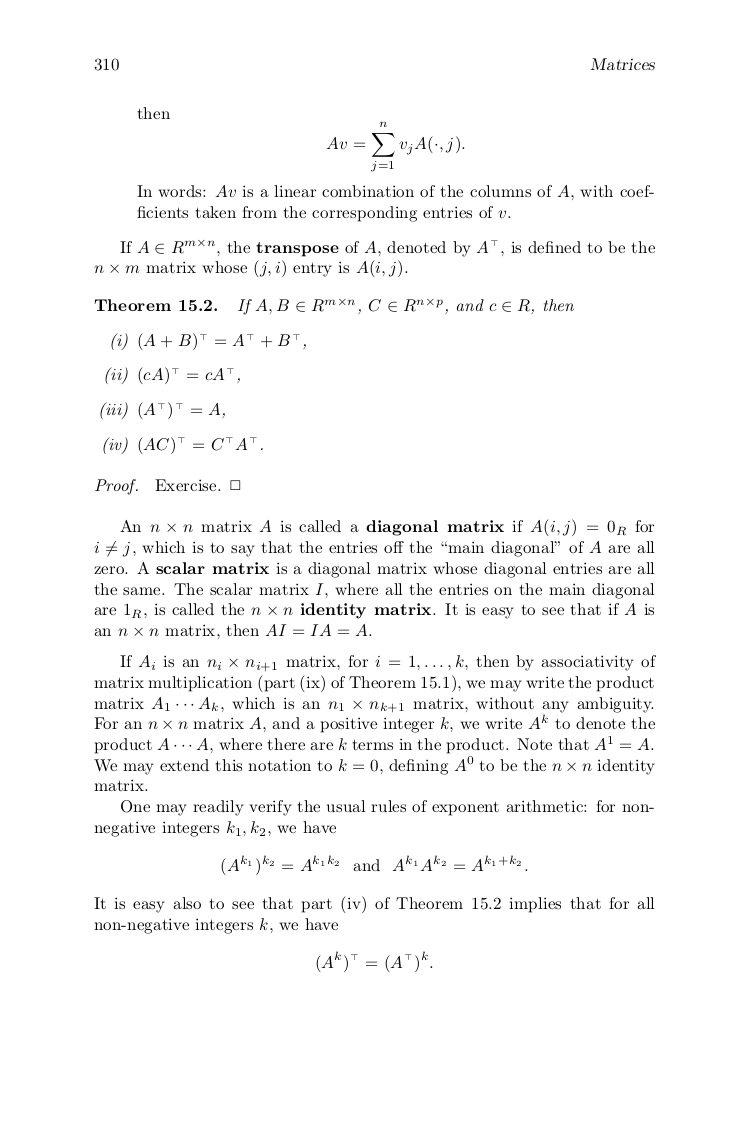formula: (326, 121, 464, 171), (221, 854, 527, 876), (111, 332, 305, 351), (103, 435, 262, 455), (316, 950, 432, 973), (105, 366, 239, 385), (100, 401, 224, 420)
